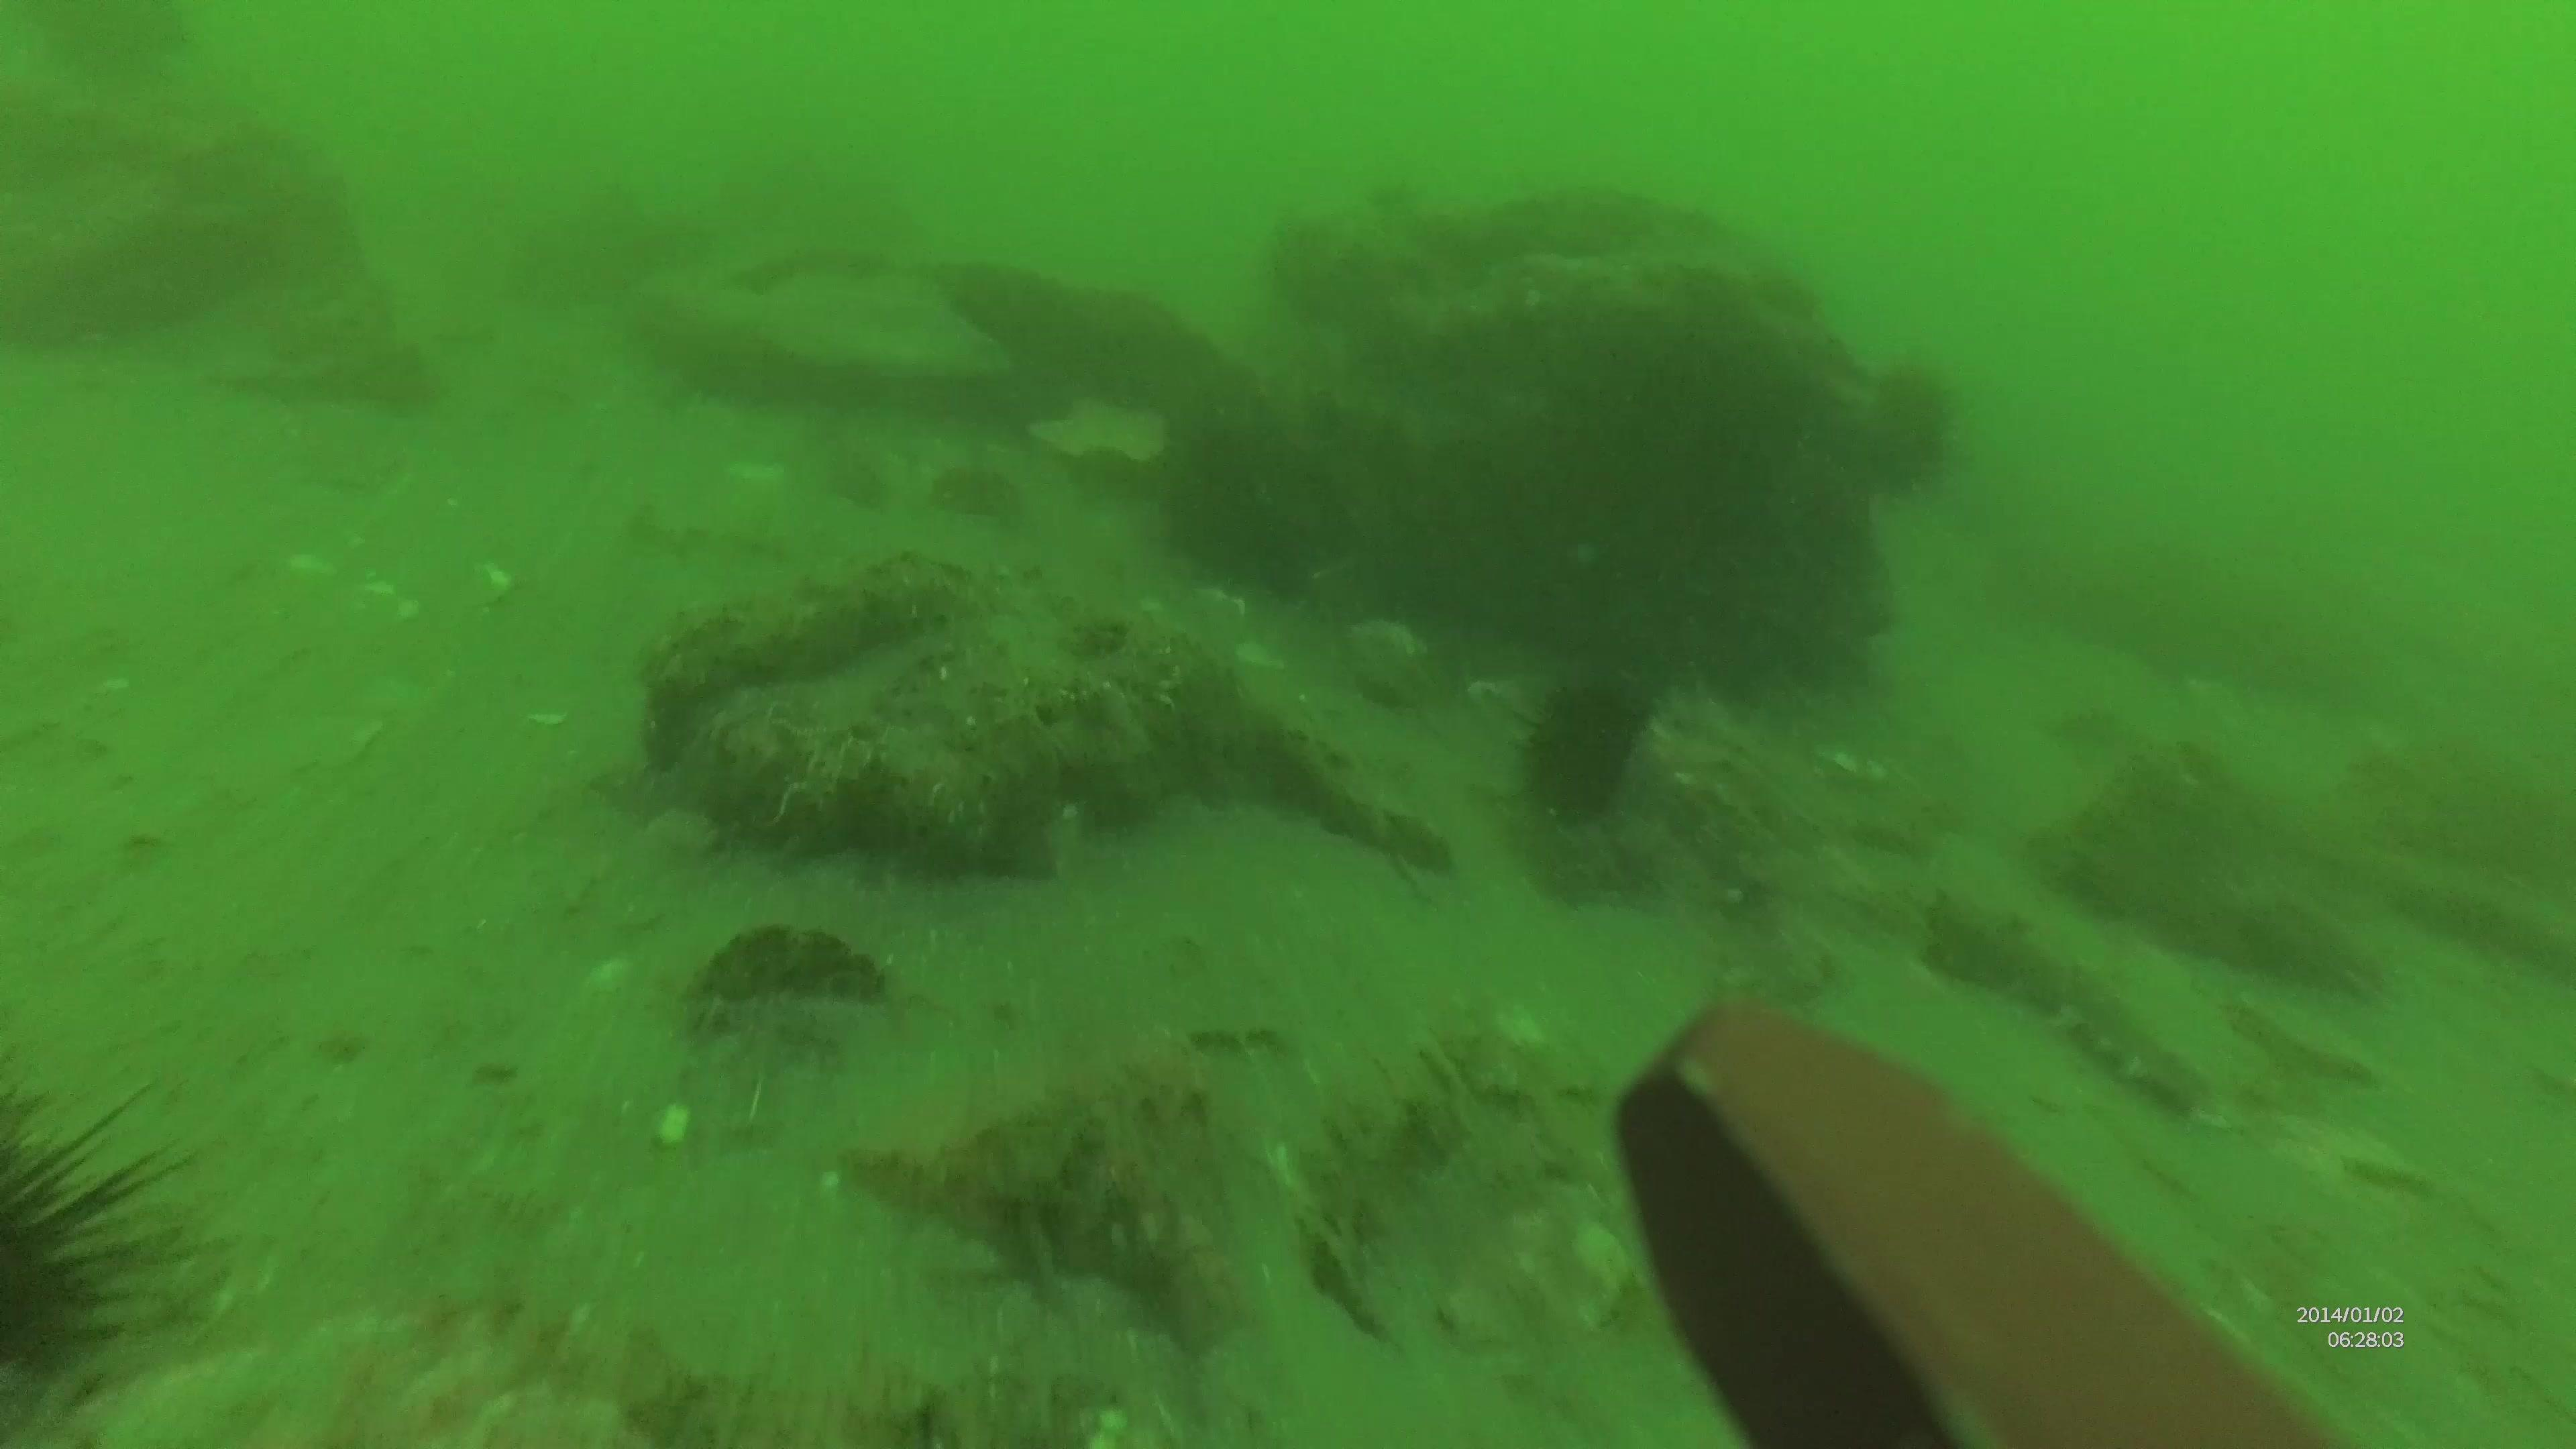echinus: (4, 1072, 223, 1438), (1525, 660, 1660, 824)
holothurian: (1930, 885, 2231, 1139)
